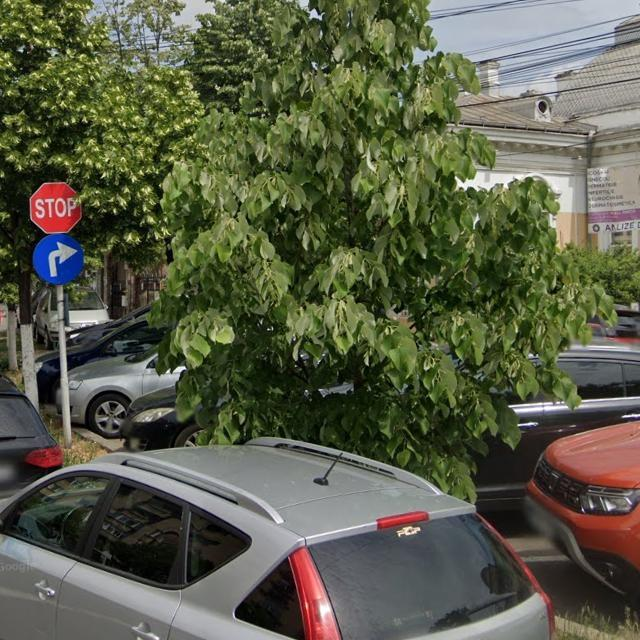prio_stop: (30, 182, 84, 235)
